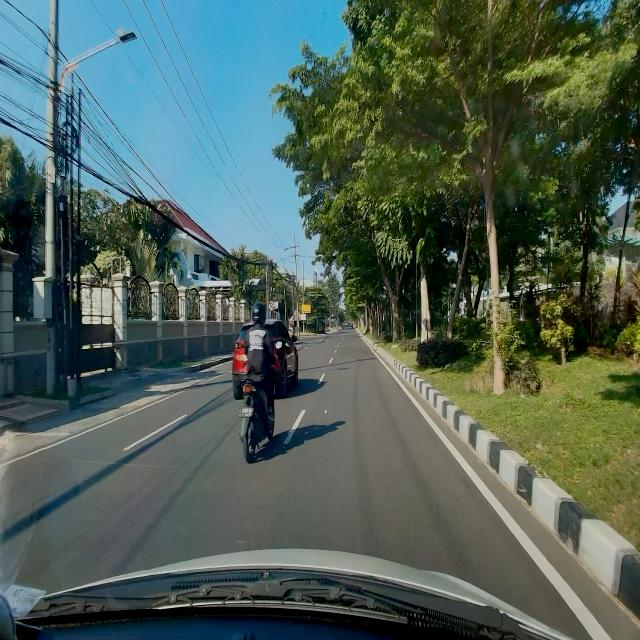car: (231, 316, 300, 400)
